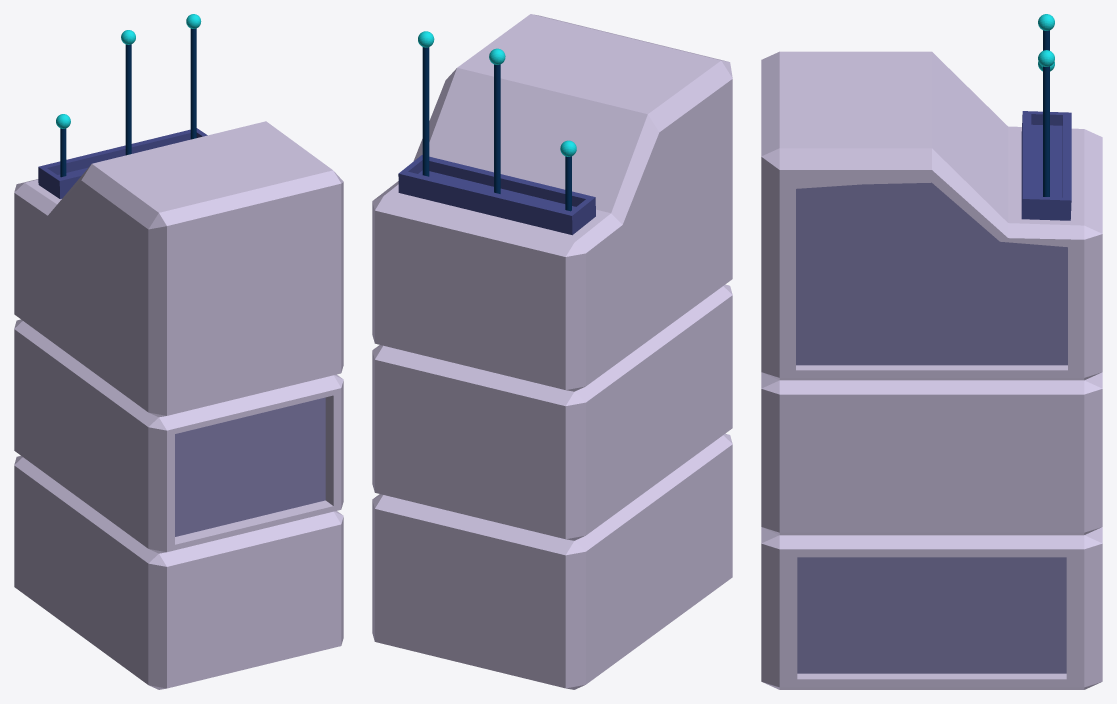
The model's file is Building15.fbx.
3 renders of one model, left to right at view 1: azimuth 30°, elevation 25°; view 2: azimuth 150°, elevation 25°; view 3: azimuth 270°, elevation 25°, orthographic. The views are drawn at different scales.
Visible parts, largest first — view 1: Cube.002, Cube, Cube.001, Cube.006, Cube.007, Cylinder, Cylinder.002; view 2: Cube.002, Cube, Cube.001, Cube.007, Cylinder, Cylinder.002; view 3: Cube.002, Cube.001, Cube.005, Cube.003, Cube, Cube.007, Cylinder.
Part boxes in pixels (<box>): Cube.002: <box>14,121,343,417</box>; Cube: <box>14,456,343,689</box>; Cube.001: <box>14,319,343,553</box>; Cube.006: <box>175,397,325,536</box>; Cube.007: <box>38,128,207,198</box>; Cylinder: <box>190,28,196,139</box>; Cylinder.002: <box>125,44,131,155</box>; Cube.002: <box>372,14,732,391</box>; Cube: <box>372,433,732,689</box>; Cube.001: <box>372,284,732,540</box>; Cube.007: <box>398,155,595,235</box>; Cylinder: <box>422,47,429,176</box>; Cylinder.002: <box>494,64,500,193</box>; Cube.002: <box>761,51,1102,380</box>; Cube.001: <box>761,372,1102,535</box>; Cube.005: <box>796,182,1067,365</box>; Cube.003: <box>797,557,1066,673</box>; Cube: <box>761,527,1102,689</box>; Cube.007: <box>1021,111,1071,220</box>; Cylinder: <box>1043,66,1049,196</box>.
Bounding box in the file's own units: 300 × 810 × 400.
